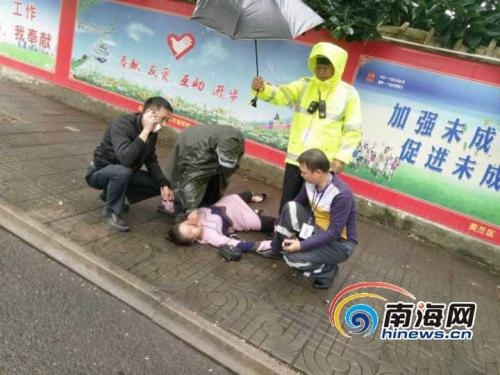falling: (157, 183, 291, 264)
